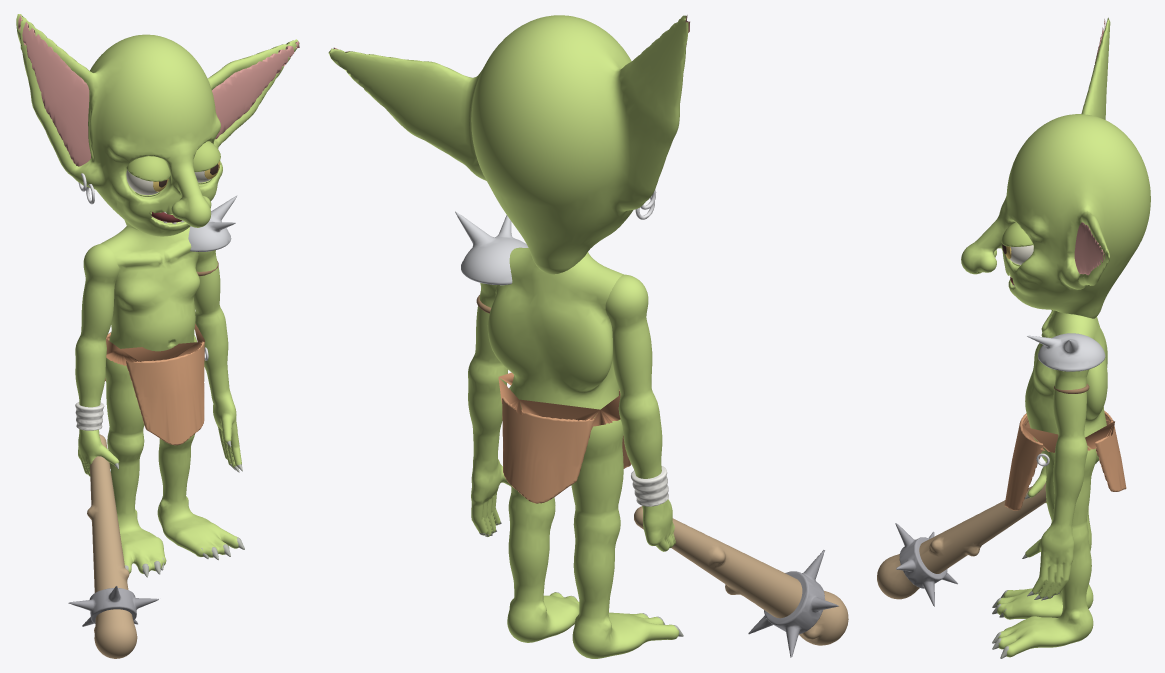
The model's file is goblin.glb.
3 views of the same model, side by side, from view 1: azimuth 30°, elevation 25°; view 2: azimuth 150°, elevation 25°; view 3: azimuth 270°, elevation 25° (orthographic). The views are drawn at different scales.
Visible parts, largest first — view 1: Head, Torso, InnerEars, RightLeg, RightArm, Loincloth, Club, LeftArm, LeftLeg, Eyelids, ClubBand, ShoulderPad (+3 smaller); view 2: Head, Torso, RightLeg, RightArm, Club, LeftLeg, Loincloth, LeftArm, ShoulderPad, ClubBand, ClothBand, WristWrap; view 3: Head, LeftArm, LeftLeg, Club, Torso, Loincloth, ShoulderPad, RightLeg, ClubBand, InnerEars, ClothBand, Eyelids.
Boxes of the visible parts, x1=… form: Head: x1=16, y1=14, x2=299, y2=236; Torso: x1=100, y1=226, x2=199, y2=351; InnerEars: x1=18, y1=15, x2=299, y2=166; RightLeg: x1=105, y1=358, x2=166, y2=573; RightArm: x1=75, y1=244, x2=119, y2=476; Loincloth: x1=105, y1=332, x2=204, y2=445; Club: x1=87, y1=434, x2=137, y2=658; LeftArm: x1=194, y1=250, x2=241, y2=467; LeftLeg: x1=157, y1=335, x2=238, y2=557; Eyelids: x1=126, y1=141, x2=220, y2=196; ClubBand: x1=68, y1=586, x2=158, y2=626; ShoulderPad: x1=188, y1=195, x2=237, y2=251; Head: x1=328, y1=15, x2=688, y2=274; Torso: x1=487, y1=247, x2=623, y2=417; RightLeg: x1=571, y1=419, x2=679, y2=658; RightArm: x1=605, y1=274, x2=675, y2=551; Club: x1=634, y1=506, x2=848, y2=645; LeftLeg: x1=507, y1=385, x2=579, y2=642; Loincloth: x1=502, y1=391, x2=631, y2=503; LeftArm: x1=468, y1=283, x2=510, y2=536; ShoulderPad: x1=455, y1=211, x2=528, y2=285; ClubBand: x1=748, y1=550, x2=838, y2=657; ClothBand: x1=498, y1=372, x2=620, y2=426; WristWrap: x1=631, y1=465, x2=668, y2=506; Head: x1=961, y1=17, x2=1150, y2=318; LeftArm: x1=1025, y1=369, x2=1089, y2=598; LeftLeg: x1=998, y1=446, x2=1096, y2=657; Club: x1=877, y1=482, x2=1046, y2=599; Torso: x1=1025, y1=310, x2=1107, y2=463; Loincloth: x1=1004, y1=411, x2=1126, y2=510; ShoulderPad: x1=1027, y1=333, x2=1105, y2=371; RightLeg: x1=997, y1=462, x2=1093, y2=619; ClubBand: x1=895, y1=523, x2=957, y2=606; InnerEars: x1=1074, y1=19, x2=1105, y2=275; ClothBand: x1=1022, y1=416, x2=1114, y2=452; Eyelids: x1=1001, y1=222, x2=1032, y2=266.
Bounding box in the file's own units: 0.7906 × 1.36 × 0.5769.
